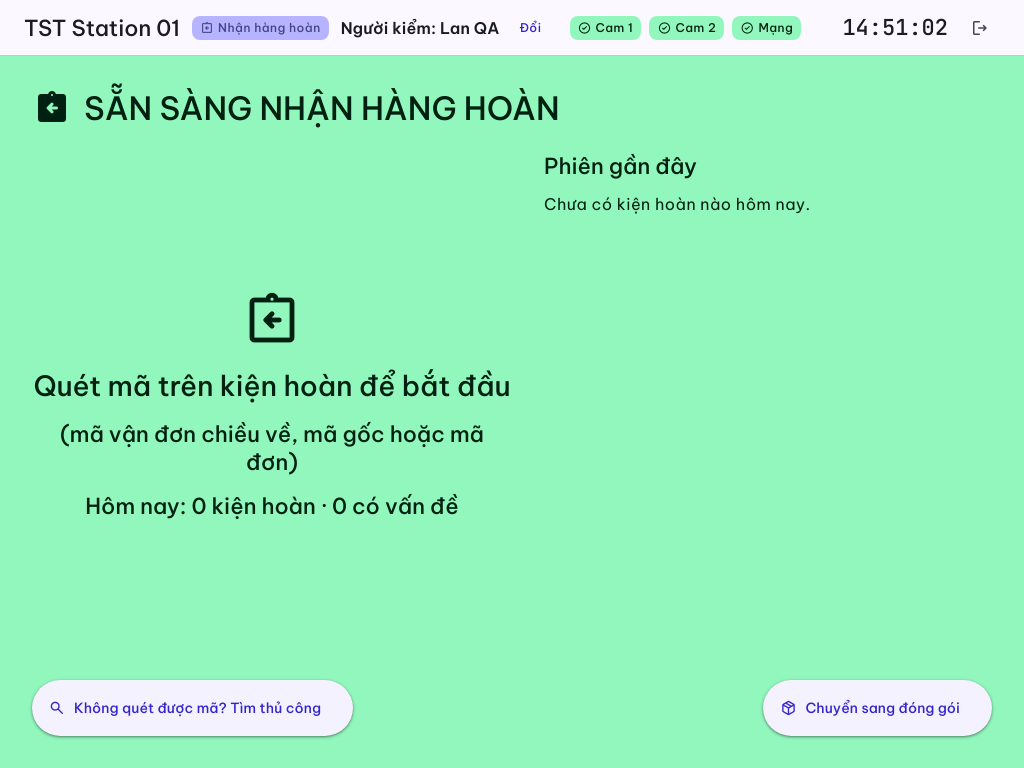
Scenario: TC-04.19: Nguyên vẹn rồi quét mã gốc cùng hồ sơ ngay (chờ lưu nháp) → R1 + Đã nhận … — Nguyên vẹn.
expect the heading "SẴN SÀNG NHẬN HÀNG HOÀN" is shown: met, box top-left (32, 88), bottom-right (560, 128)
Type keys "SPXRTTST000041{Enter}"
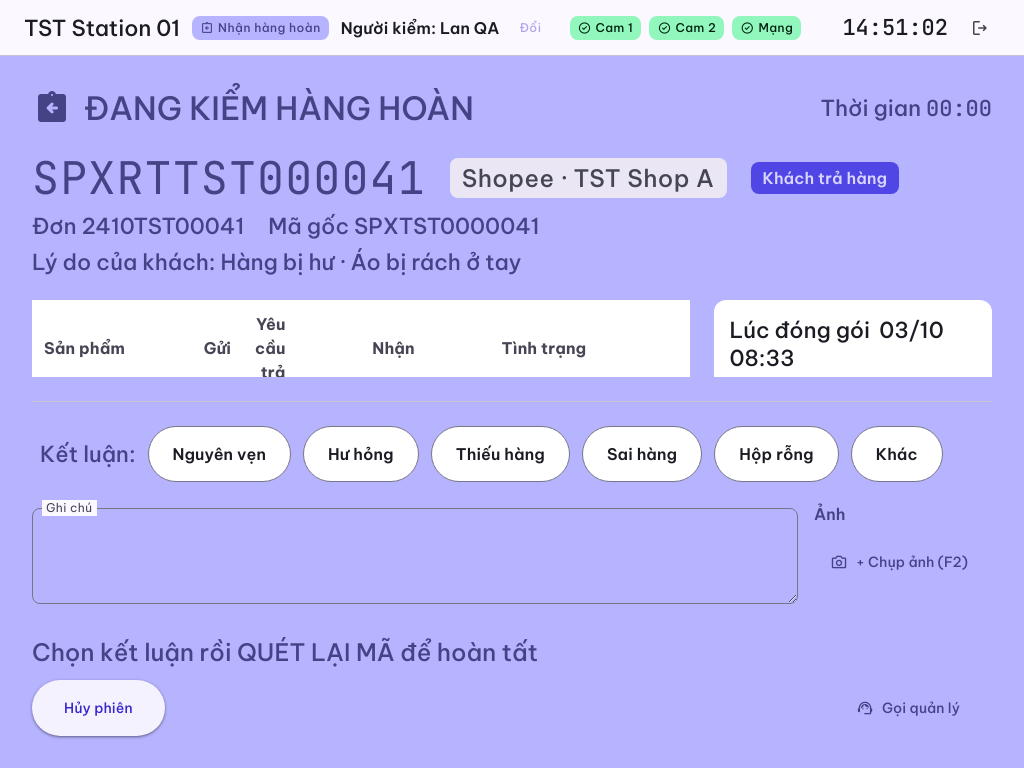
expect the heading "ĐANG KIỂM HÀNG HOÀN" is shown: met, box top-left (32, 88), bottom-right (474, 128)
Click the radio button labelled "Nguyên vẹn" at (219, 454), box top-left (148, 426), bottom-right (291, 482)
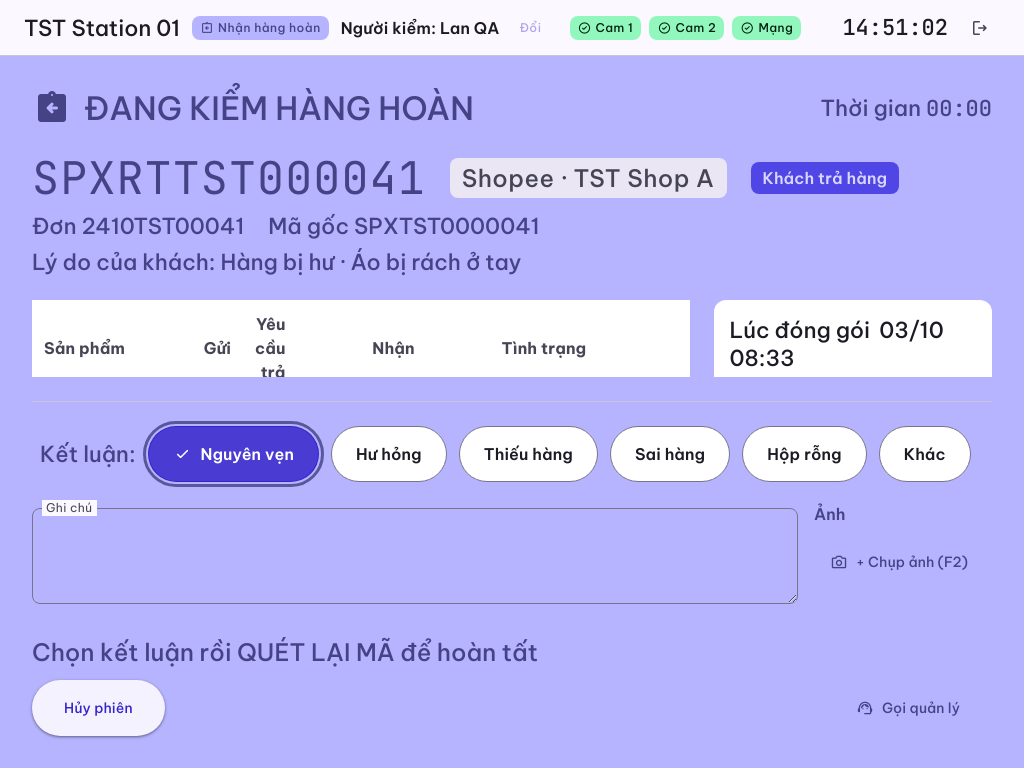
Type keys "SPXTST0000041{Enter}"
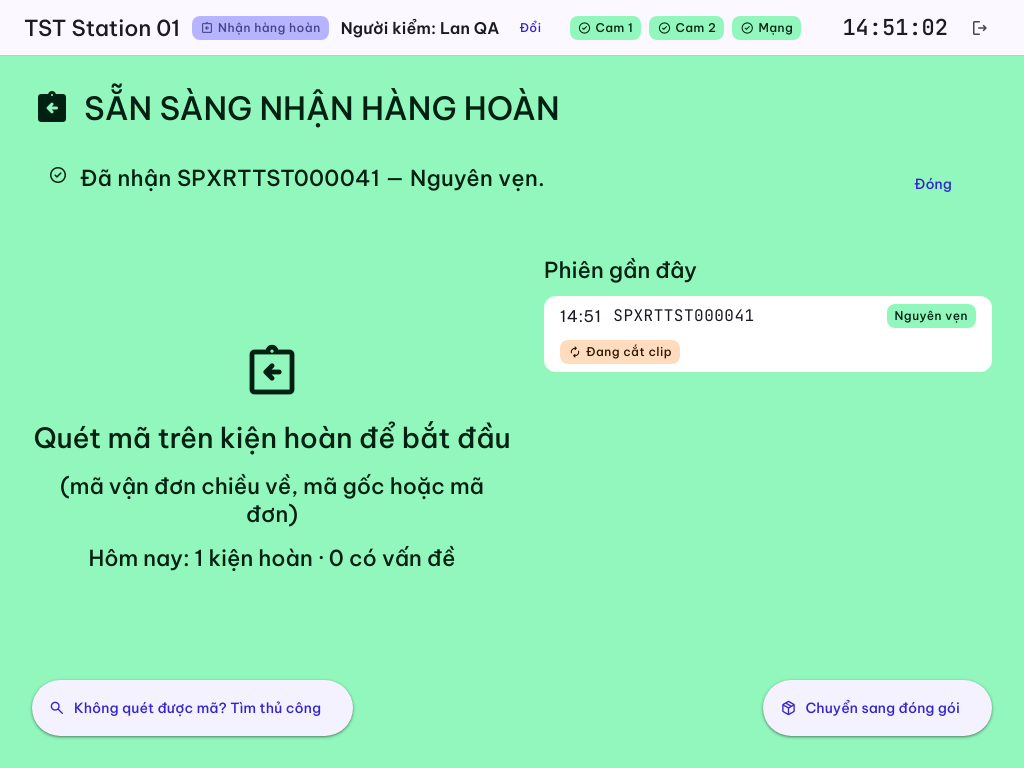
expect the heading "SẴN SÀNG NHẬN HÀNG HOÀN" is shown: met, box top-left (32, 88), bottom-right (560, 128)
expect the text "Đã nhận SPXRTTST000041 — Nguyên vẹn." is shown: met, box top-left (80, 164), bottom-right (545, 192)
expect the text "Hôm nay: 1 kiện hoàn · 0 có vấn đề" is shown: met, box top-left (88, 544), bottom-right (456, 572)
